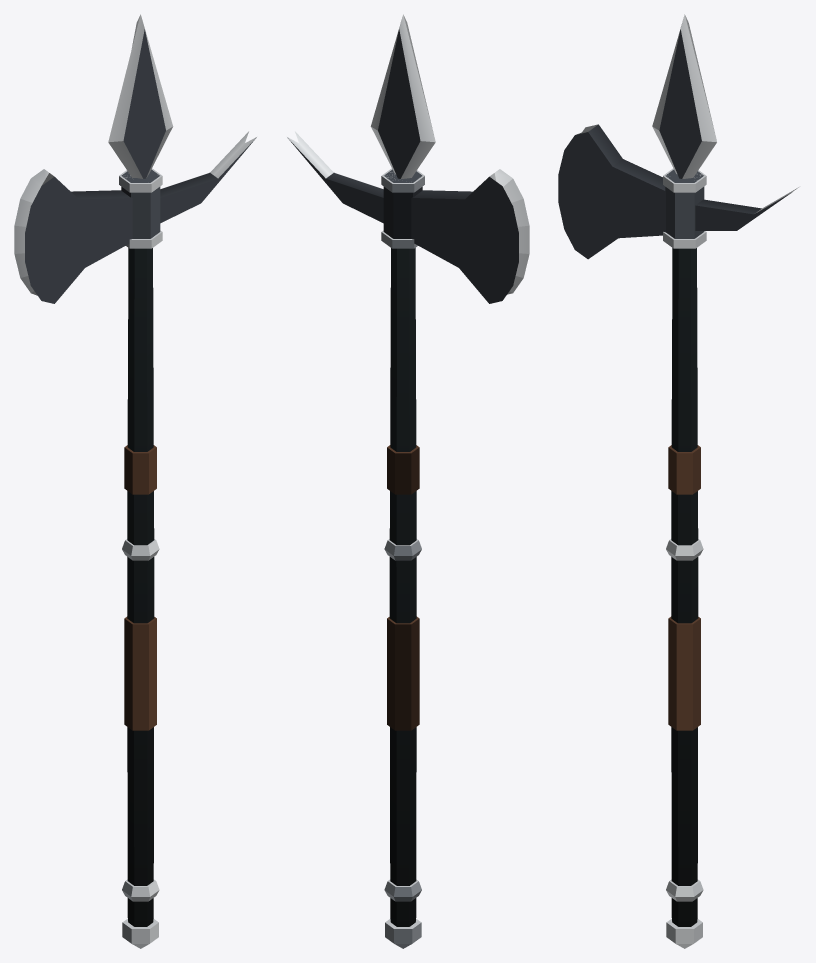
File: barb_halberd_2.gltf
The picture shows the model from 3 angles, left to right: view 1: azimuth 30°, elevation 25°; view 2: azimuth 150°, elevation 25°; view 3: azimuth 330°, elevation 25°; orthographic projection.
Visible parts, largest first — view 1: barb_halberd_2; view 2: barb_halberd_2; view 3: barb_halberd_2.
Boxes of the visible parts, <box> form: barb_halberd_2: <box>14,14,256,948</box>; barb_halberd_2: <box>287,14,529,948</box>; barb_halberd_2: <box>558,14,798,948</box>.
Bounding box in the file's own units: 0.8293 × 3.17 × 0.1344.
Materials: 1 (1 with a texture image).
